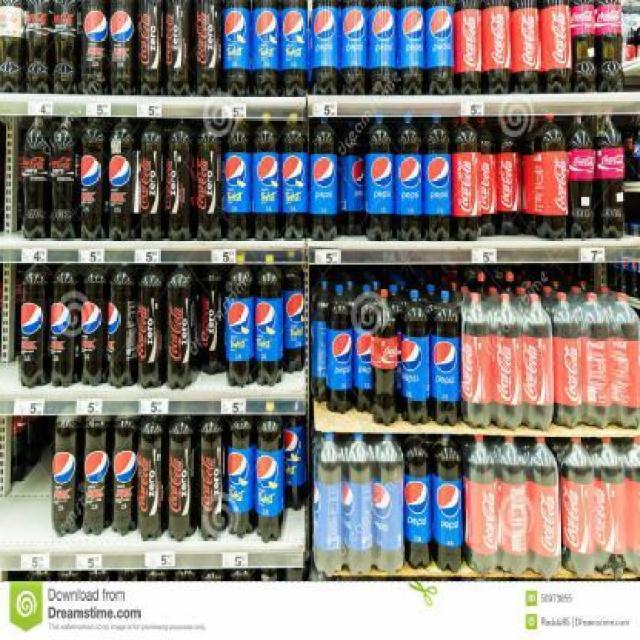Drinks: (462, 435, 498, 573), (560, 438, 594, 581), (593, 437, 627, 580), (528, 436, 560, 580), (497, 436, 529, 579), (533, 115, 569, 239), (313, 432, 344, 576), (343, 433, 374, 576), (491, 293, 523, 431), (522, 292, 554, 430), (373, 433, 404, 575), (432, 434, 463, 574), (399, 289, 430, 426), (461, 293, 492, 430), (582, 292, 613, 429), (551, 293, 582, 429), (166, 263, 198, 389), (168, 415, 199, 543), (19, 263, 50, 389), (370, 288, 398, 426), (612, 292, 640, 430), (50, 263, 81, 387), (594, 115, 625, 239), (431, 289, 459, 426), (404, 434, 432, 570), (256, 415, 285, 543), (325, 283, 353, 414), (138, 415, 167, 539), (137, 264, 166, 388), (108, 264, 137, 388), (199, 415, 228, 539), (51, 116, 80, 240), (22, 115, 51, 239), (227, 264, 256, 388), (423, 116, 452, 239), (309, 117, 338, 240), (138, 117, 167, 240), (110, 118, 139, 241), (80, 117, 109, 240), (255, 264, 284, 387), (53, 415, 82, 538), (167, 118, 196, 240), (195, 118, 224, 240), (82, 415, 111, 537), (280, 119, 309, 239), (81, 263, 109, 387), (567, 115, 595, 239), (452, 116, 480, 240), (228, 415, 256, 539), (394, 117, 422, 240), (366, 118, 394, 241), (224, 118, 252, 240), (252, 118, 280, 240), (338, 117, 366, 237), (111, 416, 139, 536), (199, 264, 227, 375), (165, 0, 197, 97), (540, 0, 572, 94), (354, 285, 377, 414), (192, 0, 223, 95), (51, 0, 82, 94), (496, 116, 520, 234), (136, 0, 165, 97), (280, 0, 309, 97), (251, 0, 280, 97), (511, 0, 540, 94), (482, 0, 511, 94), (224, 0, 252, 97), (595, 0, 624, 92), (453, 0, 481, 95), (368, 0, 396, 95), (475, 117, 497, 237), (82, 0, 109, 95), (425, 0, 452, 95), (397, 0, 424, 95), (340, 0, 367, 95), (312, 0, 339, 95), (25, 0, 51, 94), (284, 264, 306, 373), (0, 0, 25, 92), (110, 0, 134, 95), (571, 0, 595, 94), (285, 414, 308, 511)
